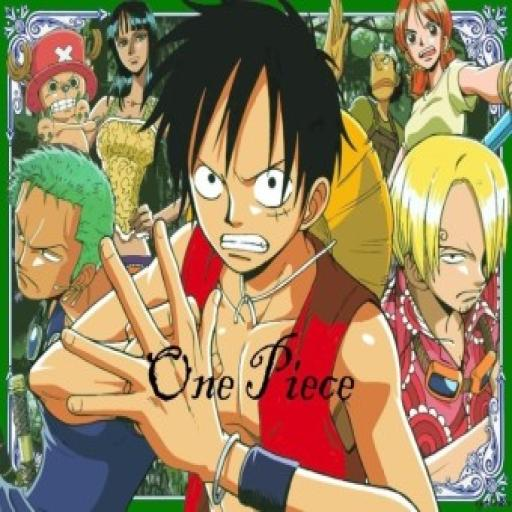Luffy: (166, 27, 392, 311)
Nami: (379, 0, 488, 114)
NicoRobin: (90, 9, 168, 110)
Zoro: (9, 144, 113, 300)
sanji: (382, 130, 509, 323)
